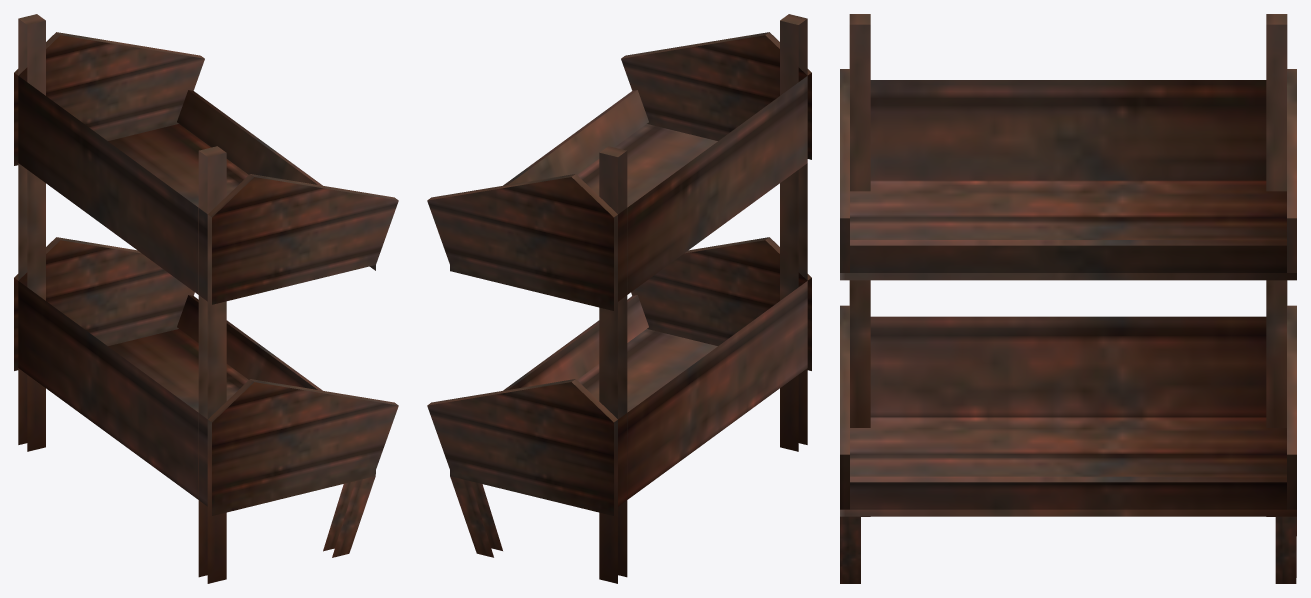
Rendered from BlackShalf.fbx.
3 views of the same model, side by side, from view 1: azimuth 30°, elevation 25°; view 2: azimuth 150°, elevation 25°; view 3: azimuth 270°, elevation 25° (orthographic). The views are drawn at different scales.
Visible parts, largest first — view 1: Shalf; view 2: Shalf; view 3: Shalf.
Part boxes in pixels (left/top/right/bottom): Shalf: left=14, top=14, right=398, bottom=583; Shalf: left=427, top=14, right=811, bottom=583; Shalf: left=840, top=14, right=1296, bottom=583.
Bounding box in the file's own units: 200 × 437 × 367.
